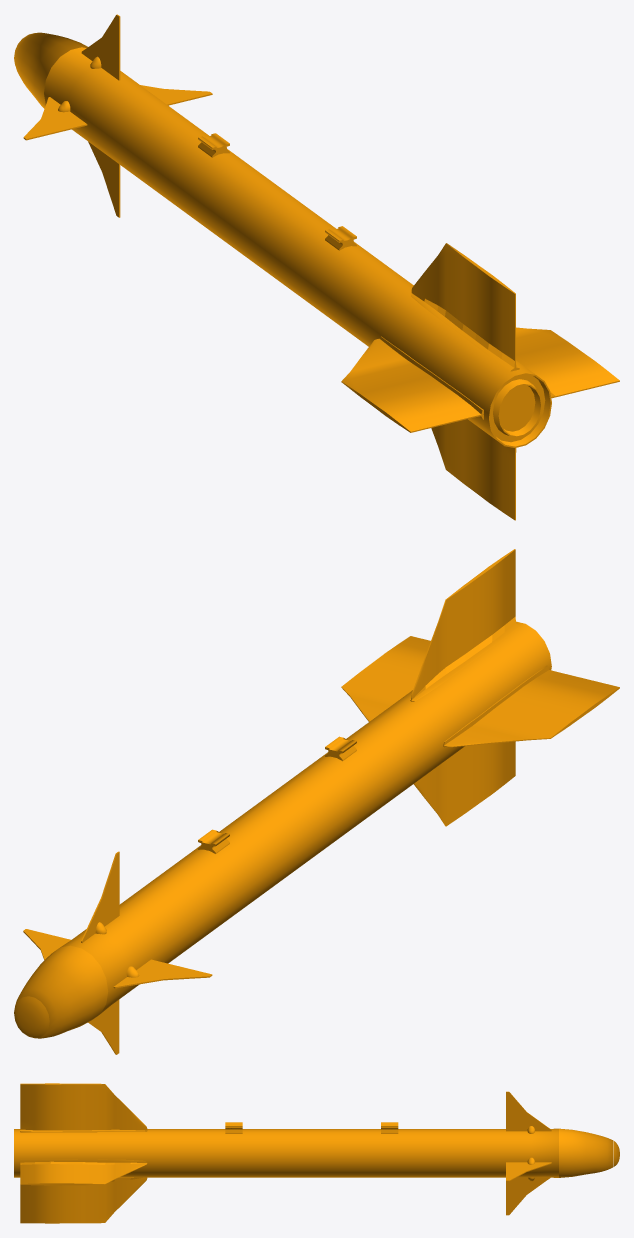
File: attackMissile.glb
3 renders of one model, top to bottom at view 1: azimuth 30°, elevation 25°; view 2: azimuth 150°, elevation 25°; view 3: azimuth 270°, elevation 25°, orthographic. The views are drawn at different scales.
Visible parts, largest first — view 1: AIM-9 SIDEWINDER.001; view 2: AIM-9 SIDEWINDER.001; view 3: AIM-9 SIDEWINDER.001.
Part boxes in pixels (x1,y1,x2,y2): AIM-9 SIDEWINDER.001: [14, 14, 619, 520]; AIM-9 SIDEWINDER.001: [14, 549, 619, 1054]; AIM-9 SIDEWINDER.001: [14, 1083, 619, 1223].
Size of the model in its own units: 88.68 by 91.74 by 362.
